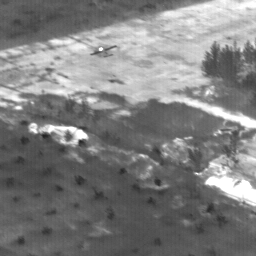aircraft: (100, 48, 102, 50)
